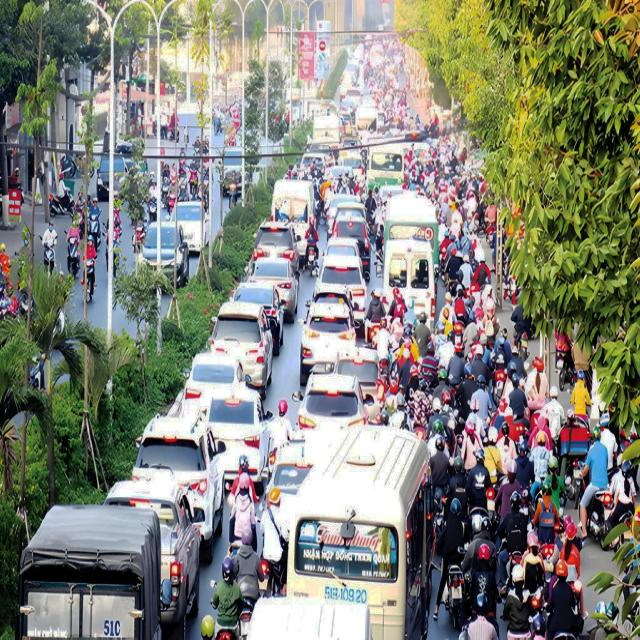Car: (285, 424, 436, 639), (18, 503, 162, 639), (102, 476, 200, 626), (132, 411, 224, 563), (210, 300, 273, 399), (246, 594, 372, 639), (299, 294, 356, 385), (291, 364, 368, 431), (382, 237, 436, 329), (312, 253, 367, 329), (386, 194, 438, 274), (206, 388, 262, 461), (333, 346, 388, 420), (232, 281, 284, 355), (184, 351, 245, 410), (249, 256, 299, 323), (141, 221, 189, 290), (271, 178, 316, 241), (252, 218, 300, 276), (331, 213, 371, 280), (96, 153, 140, 201), (326, 193, 361, 239), (366, 149, 404, 191), (337, 151, 364, 180), (305, 143, 334, 167), (299, 152, 325, 178)
